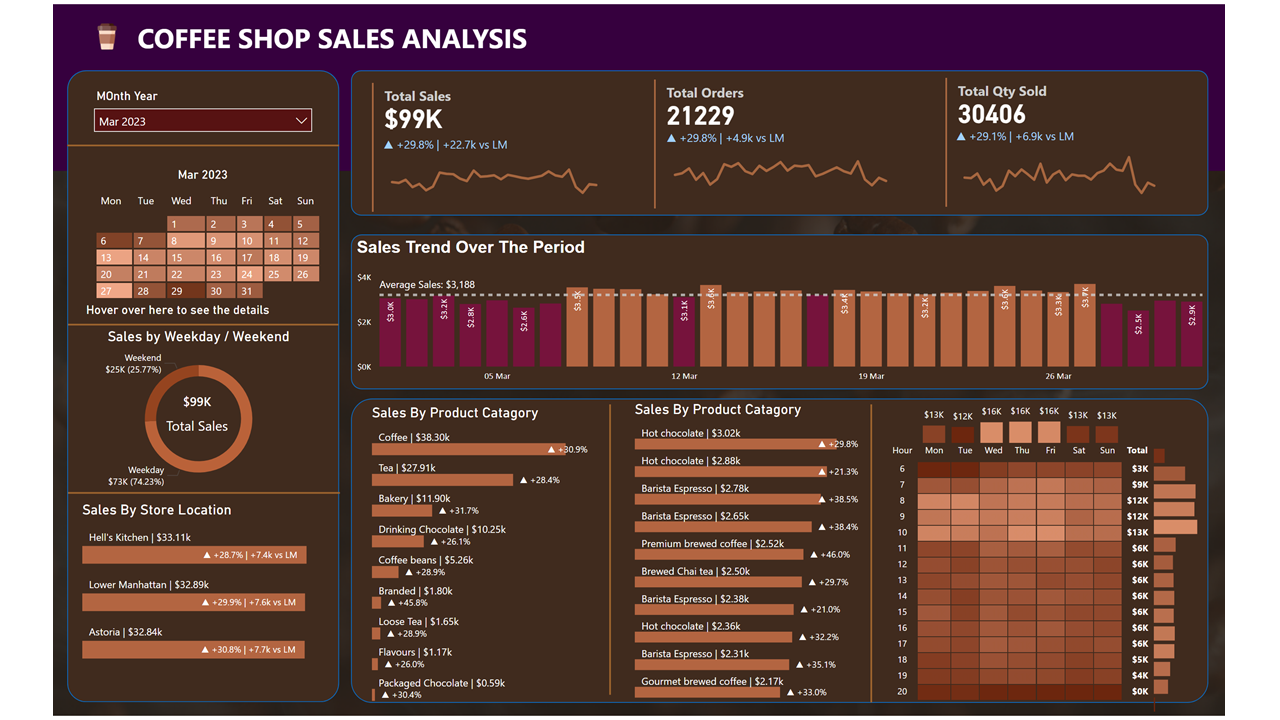

The page's visual inventory and layout, read from the dashboard file:
{"tool":"powerbi","page":{"name":"Sales Overview","canvas":[1400,850],"ordinal":0},"visuals":[{"type":"shape","box":[356.1,470.5,1024.1,363.5],"z":0},{"type":"shape","box":[0,0,1400.5,199.3],"z":1000},{"type":"shape","box":[16.6,79.3,324.8,754.7],"z":2000},{"type":"shape","box":[356.1,79.3,1024.1,173.4],"z":3000},{"type":"textbox","box":[96,12.9,489,53.5],"z":4000},{"type":"cardVisual","fields":{"Data":["cf_shp_sales.Total Qty Sold"]},"box":[1061.4,83,319.2,164.2],"z":4000,"group":"g3"},{"type":"cardVisual","fields":{"Data":["cf_shp_sales.Total Orders"]},"box":[713.4,85.1,352.4,164.2],"z":4000,"group":"g2"},{"type":"cardVisual","fields":{"Data":["cf_shp_sales.Total Sales"]},"box":[376.4,88.6,341.4,164.2],"z":4000,"group":"g1"},{"type":"slicer","fields":{"Values":["Date Table.MOnth Year"]},"box":[38.7,96,280.5,64.6],"z":5000},{"type":"group","id":"g1","title":"Group 1","box":[376.4,88.6,341.4,164.2],"z":6000},{"type":"lineChart","fields":{"Category":["Date Table.Date Hierarchy.Date"],"Y":["cf_shp_sales.Total Qty Sold"]},"box":[1074.3,147.6,256.5,84.9],"z":6000,"group":"g3"},{"type":"lineChart","fields":{"Category":["Date Table.Date Hierarchy.Date"],"Y":["cf_shp_sales.Total Orders"]},"box":[728.8,150,282.1,85.2],"z":6000,"group":"g2"},{"type":"lineChart","fields":{"Category":["Date Table.Date Hierarchy.Date"],"Y":["cf_shp_sales.Total Sales"]},"box":[390.6,157.1,273.9,84.8],"z":6000,"group":"g1"},{"type":"group","id":"g2","title":"Group 1","box":[713.4,85.1,352.4,164.2],"z":7000},{"type":"group","id":"g3","title":"Group 1","box":[1061.4,83,319.2,164.2],"z":8000},{"type":"pivotTable","fields":{"Rows":["Date Table.Week Number"],"Columns":["Date Table.Day Name"],"Values":["Min(Date Table.Day Number)"]},"box":[20.3,219.6,315.5,190.1],"z":9000},{"type":"cardVisual","fields":{"Data":["Min(Date Table.MOnth Year)"]},"box":[125.5,167.9,108.9,62.7],"z":10000},{"type":"cardVisual","fields":{"Data":["Date Table.Note"]},"box":[18.5,334,262,53.5],"z":11000},{"type":"shape","box":[18.5,356.1,322.9,53.5],"z":12000},{"type":"shape","box":[16.6,142.1,324.8,53.5],"z":13000},{"type":"donutChart","title":" Sales by Weekday / Weekend","fields":{"Category":["Date Table.Weekday / Weekend"],"Y":["cf_shp_sales.Total Sales"]},"box":[18.5,387.5,311.8,197.4],"z":14000},{"type":"card","fields":{"Values":["cf_shp_sales.Total Sales"]},"box":[125.5,457.6,94.1,59],"z":15000},{"type":"shape","box":[18.5,557.2,324.8,53.5],"z":16000},{"type":"clusteredBarChart","title":"Sales By Store Location","fields":{"Category":["cf_shp_sales.store_location"],"Y":["cf_shp_sales.placeholder","cf_shp_sales.Total Sales"]},"box":[29.5,594.2,308.1,195.6],"z":17000},{"type":"shape","box":[356.1,274.9,1024.1,185],"z":18000},{"type":"columnChart","title":"Sales Trend Over The Period","fields":{"Category":["cf_shp_sales.transaction_date"],"Y":["cf_shp_sales.Total Sales"]},"box":[358,278.6,1024.1,180.8],"z":19000},{"type":"clusteredBarChart","title":"Sales By Product Catagory","fields":{"Y":["cf_shp_sales.placeholder","cf_shp_sales.Total Sales"],"Category":["cf_shp_sales.product_category"]},"box":[376.4,477.9,267.6,359.8],"z":20000},{"type":"shape","box":[503.7,477.9,322.9,346.9],"z":21000},{"type":"clusteredBarChart","title":"Sales By Product Catagory","fields":{"Y":["cf_shp_sales.placeholder","cf_shp_sales.Total Sales"],"Category":["cf_shp_sales.product_detail"]},"box":[690.1,474.2,276.8,359.8],"z":22000},{"type":"shape","box":[815.6,477.9,322.9,356.1],"z":23000},{"type":"pivotTable","fields":{"Rows":["cf_shp_sales.Hour"],"Columns":["Date Table.Day Name"],"Values":["cf_shp_sales.Total Sales"]},"box":[992,520,338,318],"z":24000},{"type":"barChart","fields":{"Category":["cf_shp_sales.Hour"],"Y":["cf_shp_sales.Total Sales"]},"box":[1310,518,72,332],"z":25000},{"type":"columnChart","fields":{"Y":["cf_shp_sales.Total Sales"],"Category":["Date Table.Day Name"]},"box":[1034,468,244,62],"z":26000},{"type":"actionButton","box":[45.5,18.6,99.2,39.3],"z":27000}]}

Visuals, with their boxes on the page's 1400x850 design canvas (x1, y1, x2, y2). These are canvas units, not pixel positions in the 1280x720 screenshot, which may show the page scaled, cropped or inside an application window:
shape: bbox(356, 470, 1380, 834)
shape: bbox(0, 0, 1400, 199)
shape: bbox(17, 79, 341, 834)
shape: bbox(356, 79, 1380, 253)
textbox: bbox(96, 13, 585, 66)
cardVisual - cf_shp_sales.Total Qty Sold: bbox(1061, 83, 1381, 247)
cardVisual - cf_shp_sales.Total Orders: bbox(713, 85, 1066, 249)
cardVisual - cf_shp_sales.Total Sales: bbox(376, 89, 718, 253)
slicer - Date Table.MOnth Year: bbox(39, 96, 319, 161)
"Group 1" group: bbox(376, 89, 718, 253)
lineChart - Date Table.Date Hierarchy.Date x cf_shp_sales.Total Qty Sold: bbox(1074, 148, 1331, 232)
lineChart - Date Table.Date Hierarchy.Date x cf_shp_sales.Total Orders: bbox(729, 150, 1011, 235)
lineChart - Date Table.Date Hierarchy.Date x cf_shp_sales.Total Sales: bbox(391, 157, 664, 242)
"Group 1" group: bbox(713, 85, 1066, 249)
"Group 1" group: bbox(1061, 83, 1381, 247)
pivotTable - Date Table.Week Number x Date Table.Day Name: bbox(20, 220, 336, 410)
cardVisual - Min(Date Table.MOnth Year): bbox(126, 168, 234, 231)
cardVisual - Date Table.Note: bbox(18, 334, 280, 388)
shape: bbox(18, 356, 341, 410)
shape: bbox(17, 142, 341, 196)
" Sales by Weekday / Weekend" donutChart: bbox(18, 388, 330, 585)
card - cf_shp_sales.Total Sales: bbox(126, 458, 220, 517)
shape: bbox(18, 557, 343, 611)
"Sales By Store Location" clusteredBarChart: bbox(30, 594, 338, 790)
shape: bbox(356, 275, 1380, 460)
"Sales Trend Over The Period" columnChart: bbox(358, 279, 1382, 459)
"Sales By Product Catagory" clusteredBarChart: bbox(376, 478, 644, 838)
shape: bbox(504, 478, 827, 825)
"Sales By Product Catagory" clusteredBarChart: bbox(690, 474, 967, 834)
shape: bbox(816, 478, 1138, 834)
pivotTable - cf_shp_sales.Hour x Date Table.Day Name: bbox(992, 520, 1330, 838)
barChart - cf_shp_sales.Hour x cf_shp_sales.Total Sales: bbox(1310, 518, 1382, 850)
columnChart - cf_shp_sales.Total Sales x Date Table.Day Name: bbox(1034, 468, 1278, 530)
actionButton: bbox(46, 19, 145, 58)
